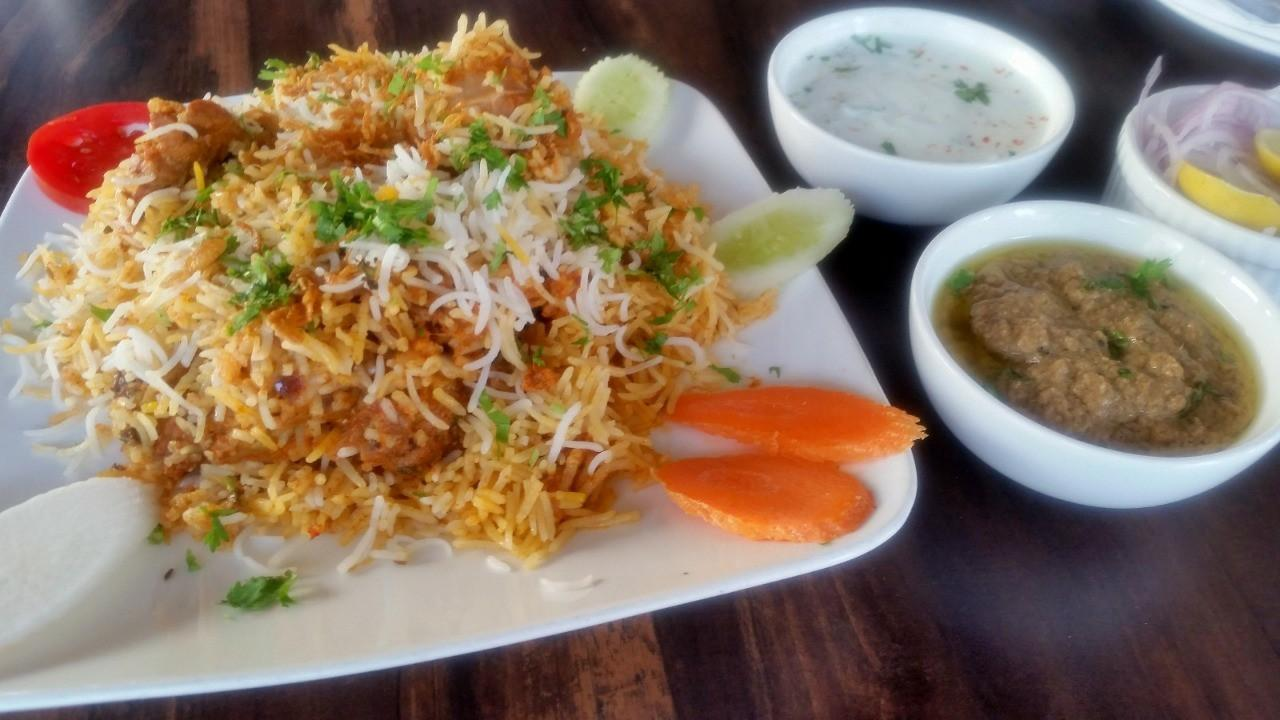Biryani: (3, 9, 781, 608)
